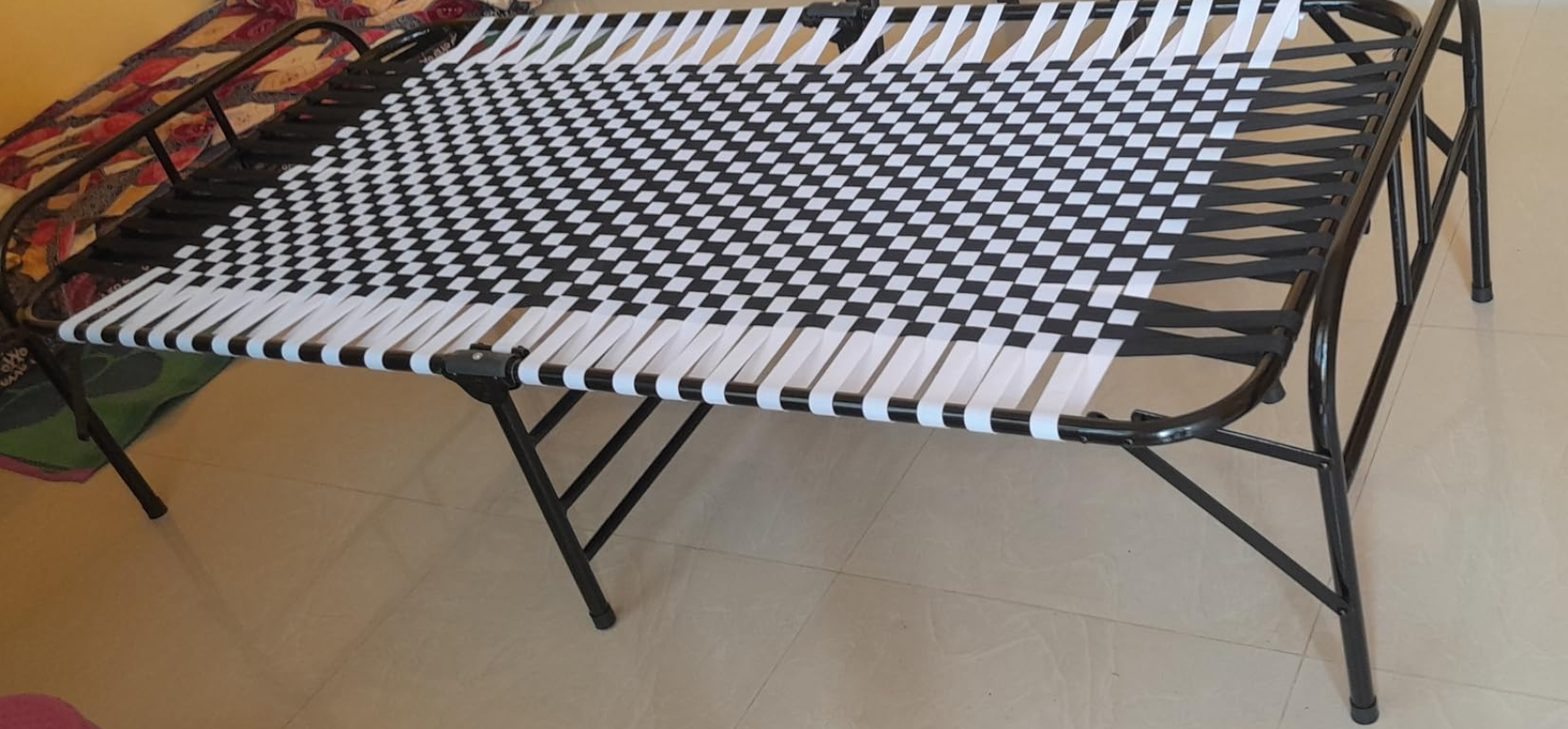cot: (0, 0, 1503, 725)
